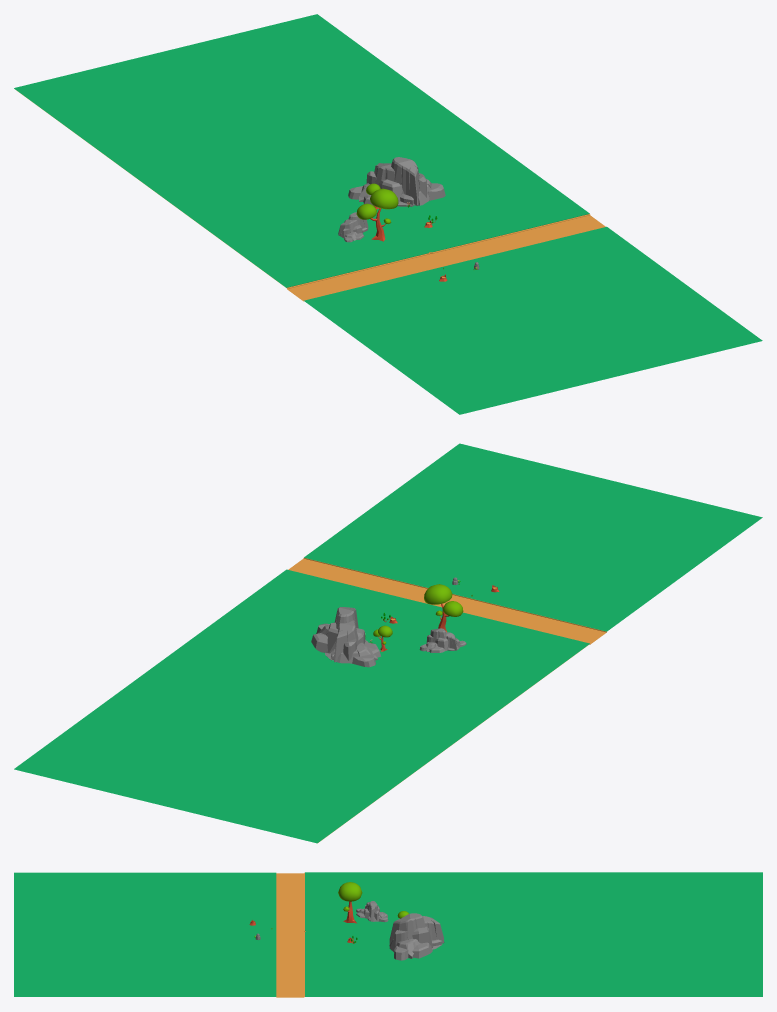
File: BackGround_3.fbx
The picture shows the model from 3 angles, top to bottom: view 1: azimuth 30°, elevation 25°; view 2: azimuth 150°, elevation 25°; view 3: azimuth 270°, elevation 25°; orthographic projection. The views are drawn at different scales.
Visible parts, largest first — view 1: floor, stone1, tree2; view 2: floor, stone1, tree2, stone; view 3: floor, stone1, tree2, stone.
Boxes of the visible parts, bbox=[...] form: floor: bbox=[14, 14, 762, 414]; stone1: bbox=[348, 157, 445, 206]; tree2: bbox=[356, 188, 398, 241]; floor: bbox=[14, 443, 762, 843]; stone1: bbox=[311, 607, 380, 667]; tree2: bbox=[424, 584, 463, 632]; stone: bbox=[419, 628, 466, 652]; floor: bbox=[14, 872, 762, 997]; stone1: bbox=[389, 913, 444, 960]; tree2: bbox=[338, 882, 362, 923]; stone: bbox=[356, 901, 388, 922].
Size of the model in its own units: 7946 by 1246 by 20217.
Materials: 1 (1 with a texture image).
